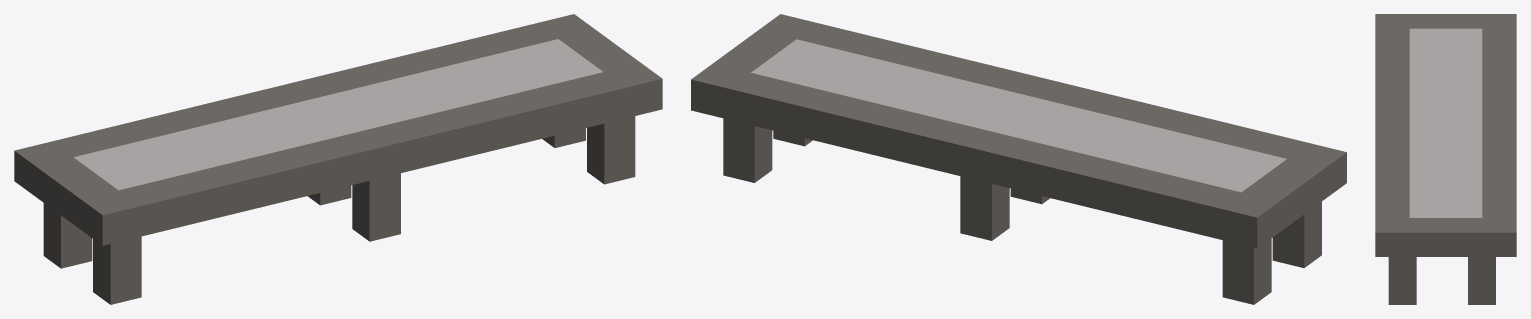
Rendered from bench3.FBX.
3 views of the same model, side by side, from view 1: azimuth 30°, elevation 25°; view 2: azimuth 150°, elevation 25°; view 3: azimuth 270°, elevation 25° (orthographic). The views are drawn at different scales.
Parts seen in each view (by area): view 1: bench3; view 2: bench3; view 3: bench3.
Boxes of the visible parts, x1=… form: bench3: x1=14, y1=14, x2=662, y2=304; bench3: x1=691, y1=14, x2=1346, y2=304; bench3: x1=1375, y1=14, x2=1516, y2=304.
Size of the model in its own units: 4.3 by 0.7314 by 1.18.
